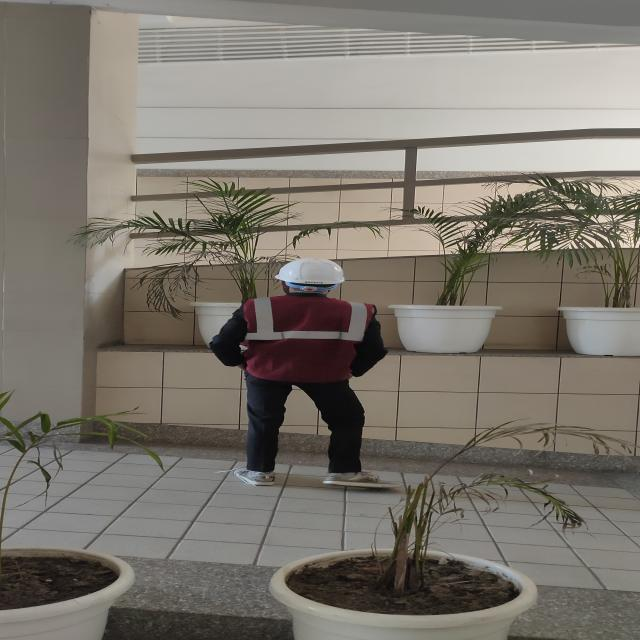safe: (238, 258, 374, 488)
